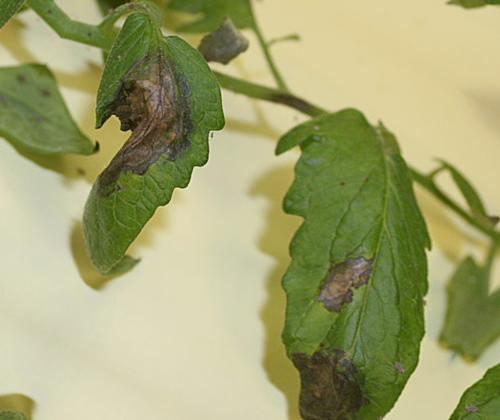Tomato leaf late blight: (157, 56, 500, 420), (0, 0, 270, 309)
